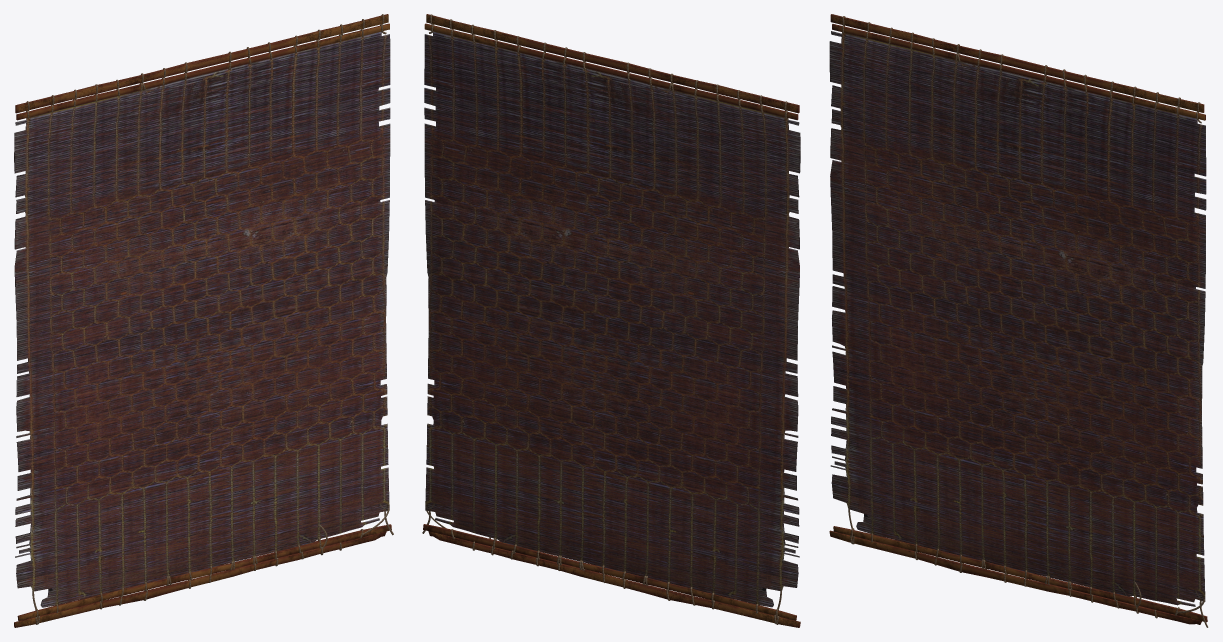
Rendered from SM_BambooBlind.fbx.
3 views of the same model, side by side, from view 1: azimuth 30°, elevation 25°; view 2: azimuth 150°, elevation 25°; view 3: azimuth 330°, elevation 25° (orthographic).
Visible parts, largest first — view 1: SM_BambooBlind; view 2: SM_BambooBlind; view 3: SM_BambooBlind.
Part boxes in pixels (bbox=[...]): SM_BambooBlind: bbox=[14, 14, 393, 627]; SM_BambooBlind: bbox=[422, 14, 800, 627]; SM_BambooBlind: bbox=[829, 14, 1208, 627].
Bounding box in the file's own units: 44.73 × 59.61 × 0.5059.
1 material, 1 textured.
